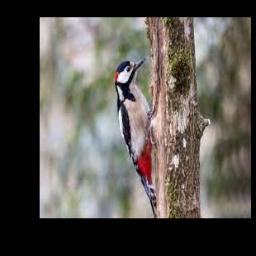Woodpecker: (115, 57, 157, 218)
